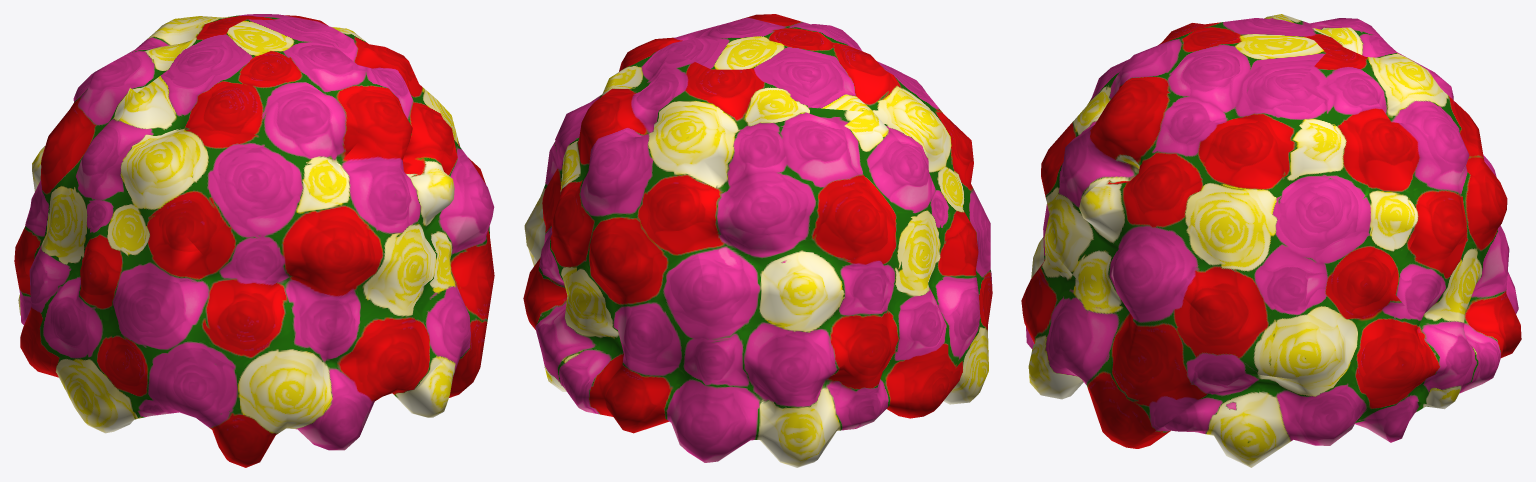
The model's file is DecorFlowerRoses02_2.FBX.
The picture shows the model from 3 angles, left to right: view 1: azimuth 30°, elevation 25°; view 2: azimuth 150°, elevation 25°; view 3: azimuth 270°, elevation 25°; orthographic projection. The views are drawn at different scales.
Parts seen in each view (by area): view 1: DecorFlowerRoses02_2; view 2: DecorFlowerRoses02_2; view 3: DecorFlowerRoses02_2.
Part boxes in pixels (left/top/right/bottom): DecorFlowerRoses02_2: left=14, top=14, right=494, bottom=467; DecorFlowerRoses02_2: left=523, top=14, right=992, bottom=467; DecorFlowerRoses02_2: left=1021, top=14, right=1521, bottom=467.
Size of what is drawn, in the model's own units: 0.5299 by 0.4062 by 0.5341.
